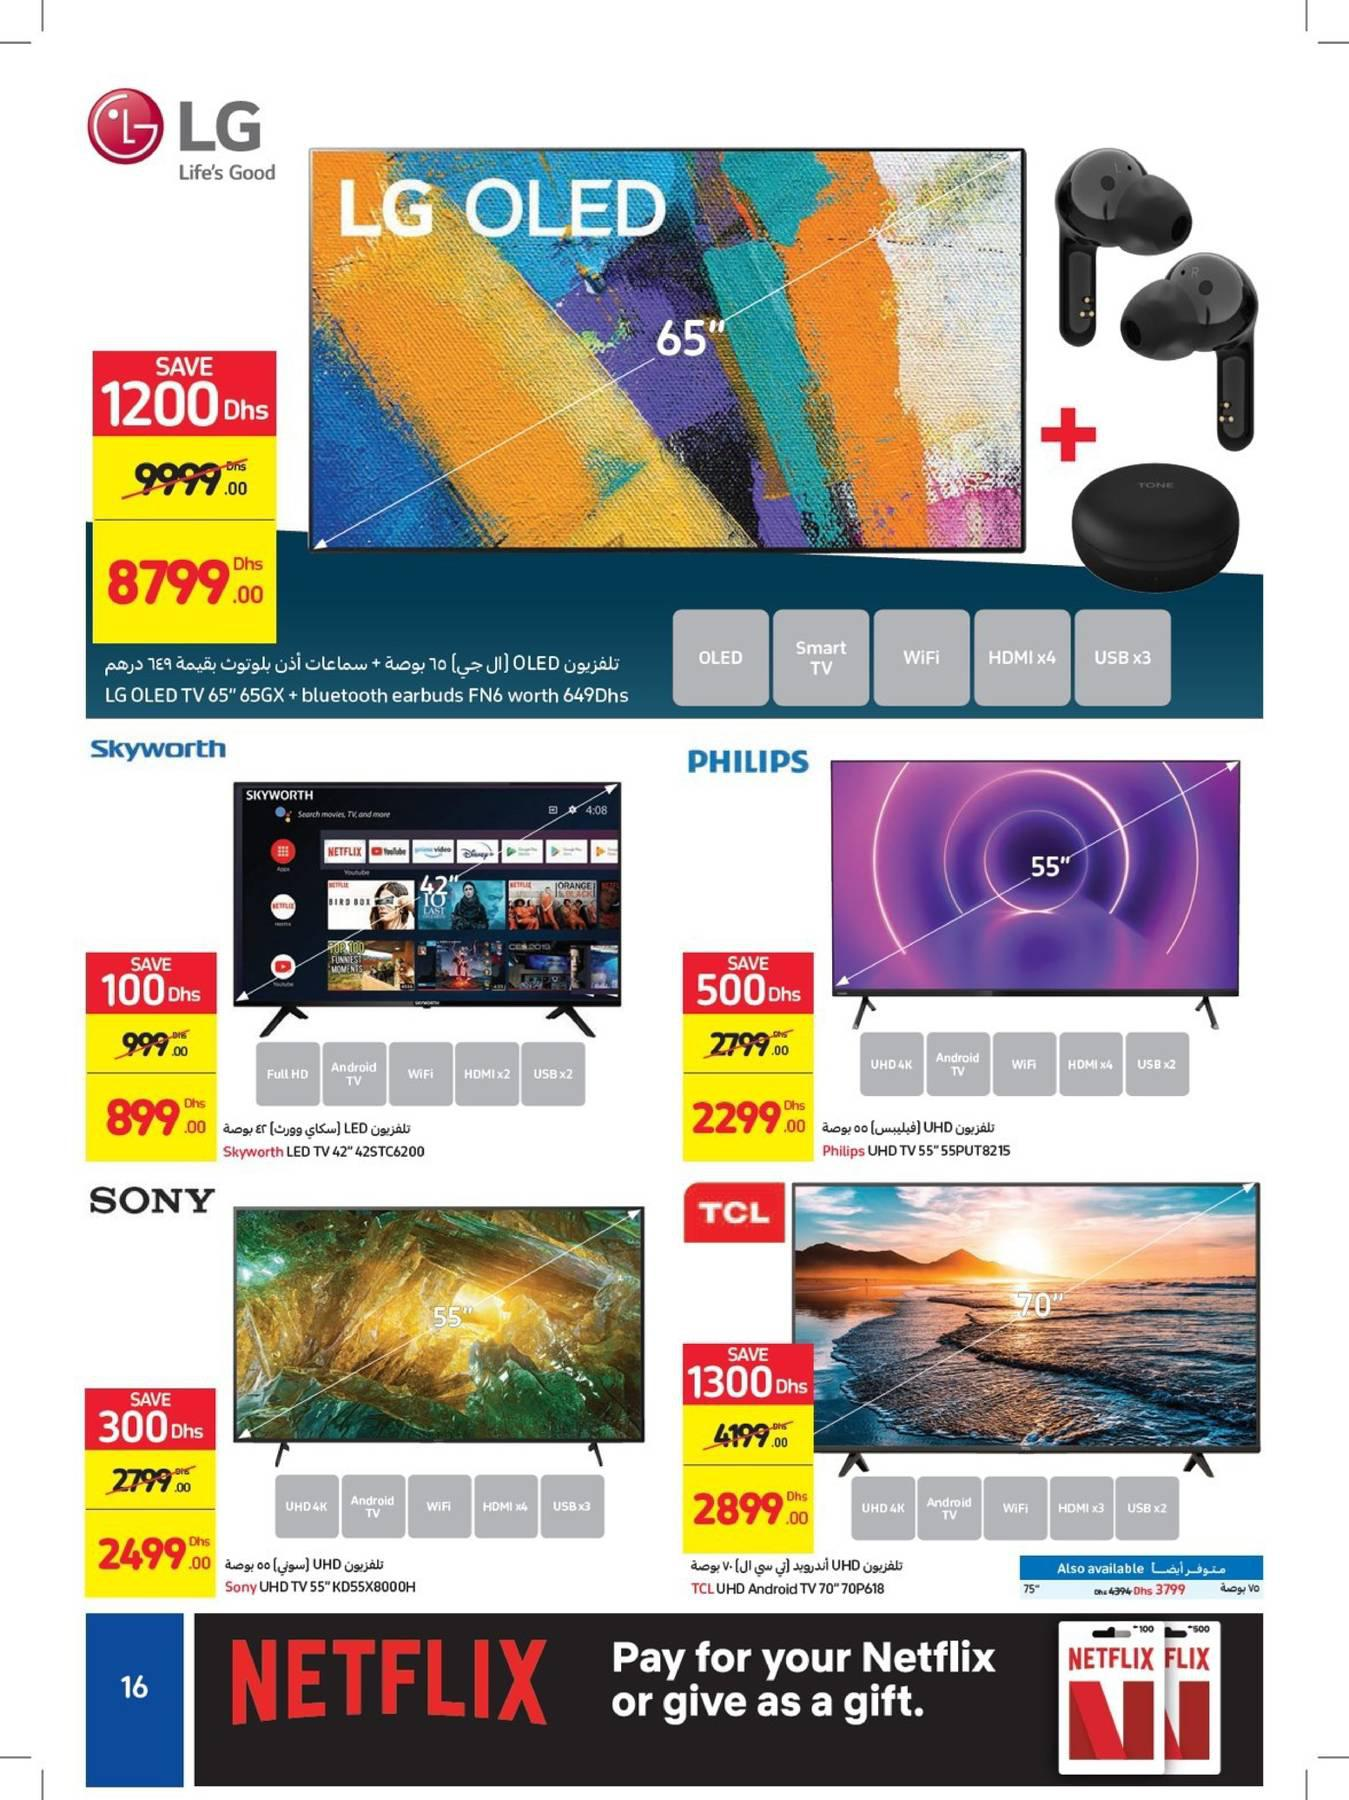text: (98, 646, 640, 717), (217, 1113, 429, 1169), (682, 1552, 914, 1600), (818, 1114, 1022, 1168), (220, 1552, 425, 1603)
